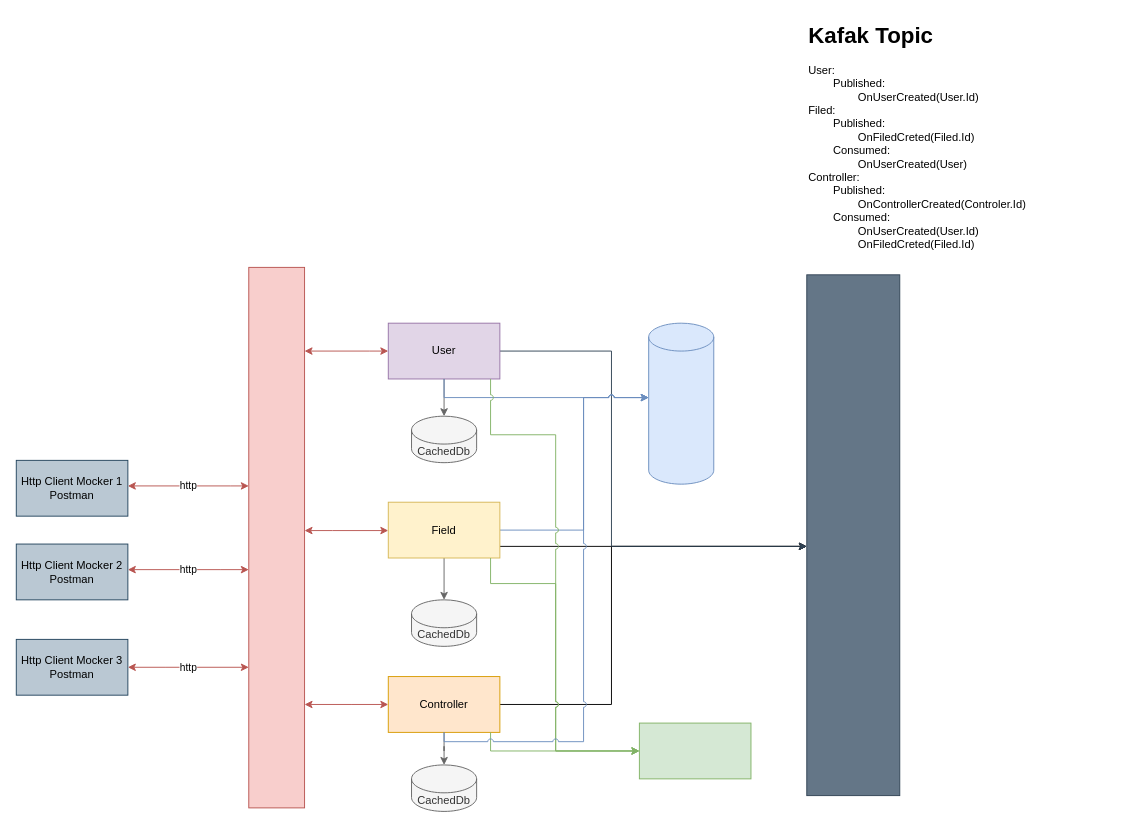
This 1121x828 diagram has some shape labels left out. The centre of each missing label's shape, as x and y in pixels:
"Gateway Nginx" belongs at point (276, 537).
"KAFKA" belongs at point (853, 535).
"PgSql" belongs at point (681, 403).
"Seq" belongs at point (694, 750).
